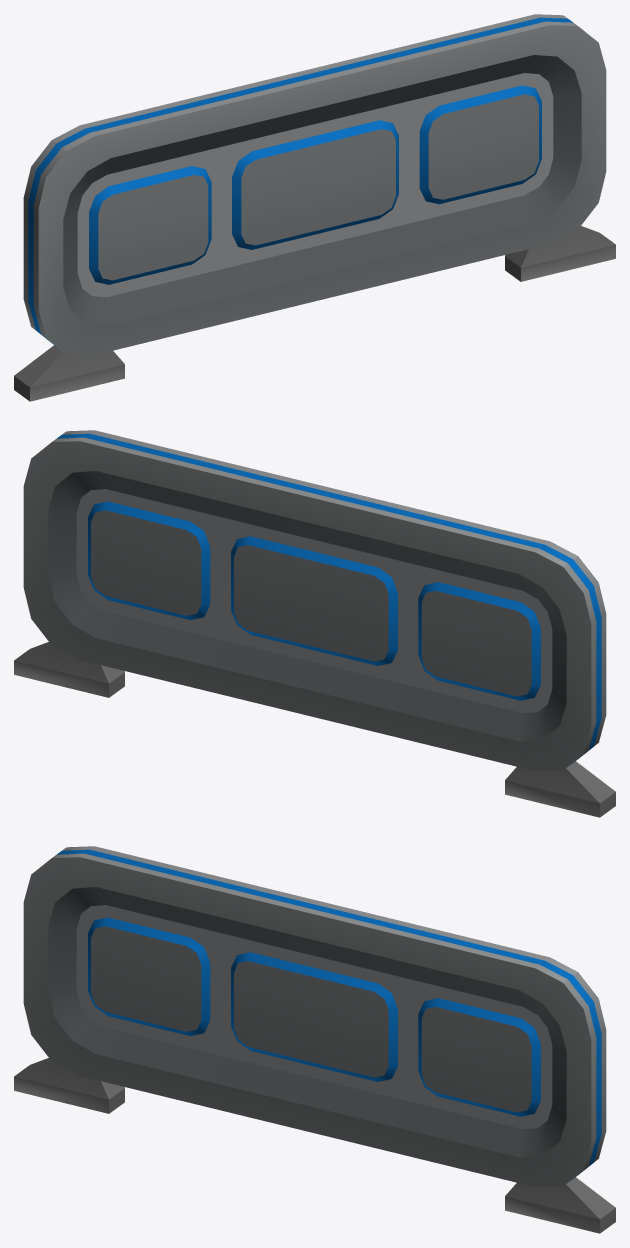
Rendered from Fence_type_B_012.fbx.
3 renders of one model, top to bottom at view 1: azimuth 30°, elevation 25°; view 2: azimuth 150°, elevation 25°; view 3: azimuth 330°, elevation 25°, orthographic.
Visible parts, largest first — view 1: Fence_type_B_012; view 2: Fence_type_B_012; view 3: Fence_type_B_012.
Boxes of the visible parts, x1,y1,x2,y2 form: Fence_type_B_012: (14,14,615,401); Fence_type_B_012: (14,430,615,817); Fence_type_B_012: (14,846,615,1233).
Bounding box in the file's own units: 348 × 16.53 × 141.
